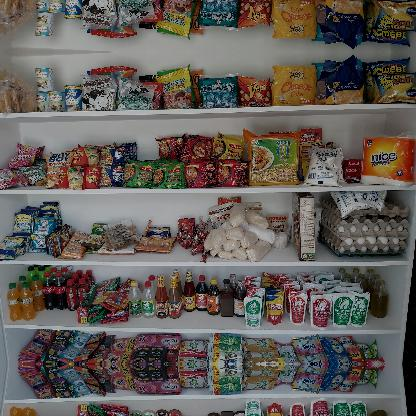Koko-Krunch: (290, 189, 318, 263)
